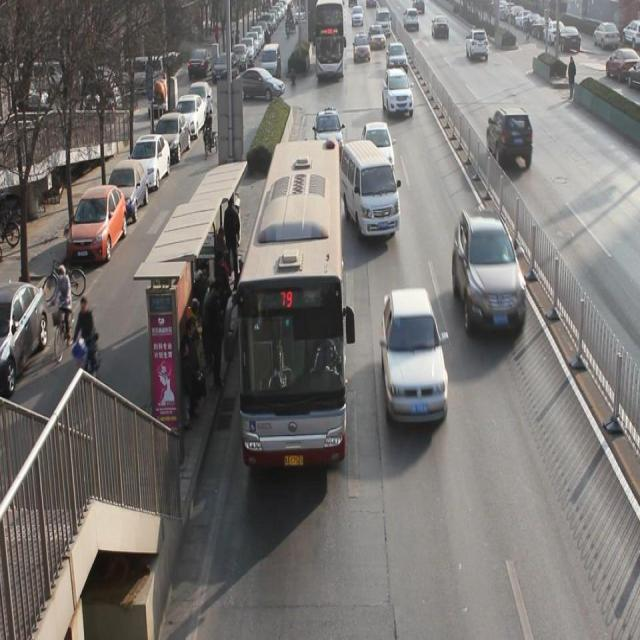car: (451, 212, 530, 340), (380, 290, 449, 426), (487, 110, 532, 172), (362, 122, 397, 180), (383, 70, 414, 118), (316, 109, 343, 156), (466, 29, 490, 63), (387, 44, 409, 75), (368, 23, 386, 52), (352, 34, 370, 58), (432, 17, 449, 40)
truck: (341, 144, 399, 240)
van: (236, 137, 345, 467), (314, 1, 342, 74)
